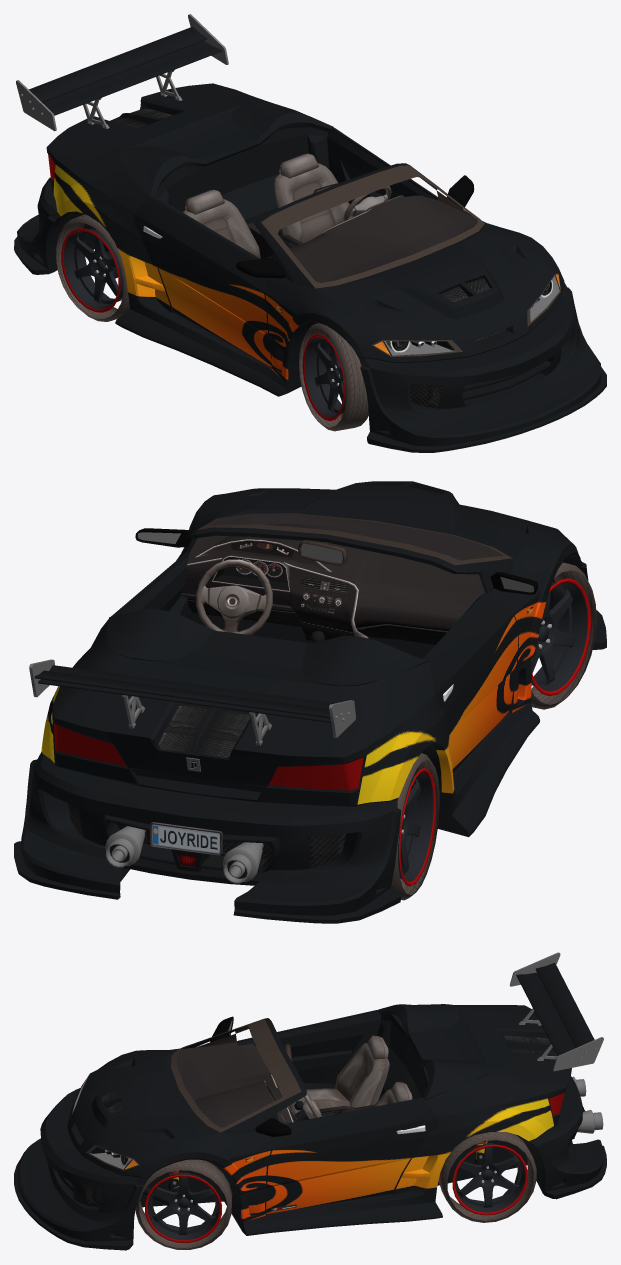
The model's file is tuner.glb.
3 views of the same model, one above another, from view 1: azimuth 30°, elevation 25°; view 2: azimuth 150°, elevation 25°; view 3: azimuth 270°, elevation 25° (orthographic). The views are drawn at different scales.
Parts seen in each view (by area): view 1: node_id63, node_id65, node_id99, node_id85, node_id94, node_id61, node_id69, node_id136, node_id127, node_id133, node_id83, node_id142 (+5 smaller); view 2: node_id63, node_id99, node_id65, node_id61, node_id85, node_id127, node_id73, node_id51, node_id136, node_id96, node_id78, node_id83 (+6 smaller); view 3: node_id63, node_id65, node_id99, node_id61, node_id94, node_id85, node_id145, node_id154, node_id69, node_id151, node_id160, node_id83 (+4 smaller).
Boxes of the visible parts, left/top/right/bottom form: node_id63: left=17, top=83, right=601, bottom=446; node_id65: left=50, top=89, right=559, bottom=393; node_id99: left=247, top=195, right=477, bottom=282; node_id85: left=29, top=26, right=222, bottom=115; node_id94: left=183, top=153, right=353, bottom=258; node_id61: left=14, top=237, right=606, bottom=452; node_id69: left=261, top=165, right=484, bottom=288; node_id136: left=61, top=227, right=123, bottom=312; node_id127: left=302, top=334, right=346, bottom=421; node_id133: left=299, top=323, right=368, bottom=431; node_id83: left=16, top=14, right=228, bottom=131; node_id142: left=56, top=214, right=129, bottom=321; node_id63: left=20, top=481, right=588, bottom=915; node_id99: left=181, top=513, right=503, bottom=644; node_id65: left=52, top=489, right=581, bottom=872; node_id61: left=14, top=610, right=606, bottom=923; node_id85: left=34, top=665, right=334, bottom=722; node_id127: left=531, top=578, right=591, bottom=695; node_id73: left=68, top=705, right=345, bottom=868; node_id51: left=54, top=722, right=363, bottom=790; node_id136: left=398, top=768, right=435, bottom=886; node_id96: left=196, top=559, right=272, bottom=634; node_id78: left=105, top=826, right=263, bottom=883; node_id83: left=29, top=659, right=355, bottom=745; node_id63: left=17, top=1004, right=603, bottom=1241; node_id65: left=71, top=1010, right=578, bottom=1230; node_id99: left=176, top=1042, right=374, bottom=1127; node_id61: left=14, top=1109, right=606, bottom=1250; node_id94: left=289, top=1035, right=412, bottom=1114; node_id85: left=516, top=962, right=594, bottom=1055; node_id145: left=452, top=1143, right=527, bottom=1215; node_id154: left=145, top=1172, right=221, bottom=1242; node_id69: left=171, top=1019, right=301, bottom=1132; node_id151: left=438, top=1132, right=536, bottom=1222; node_id160: left=135, top=1159, right=232, bottom=1249; node_id83: left=510, top=952, right=603, bottom=1071.
Bounding box in the file's own units: 0.2483 × 0.1314 × 0.4187.
Materials: 57 (57 with a texture image).
